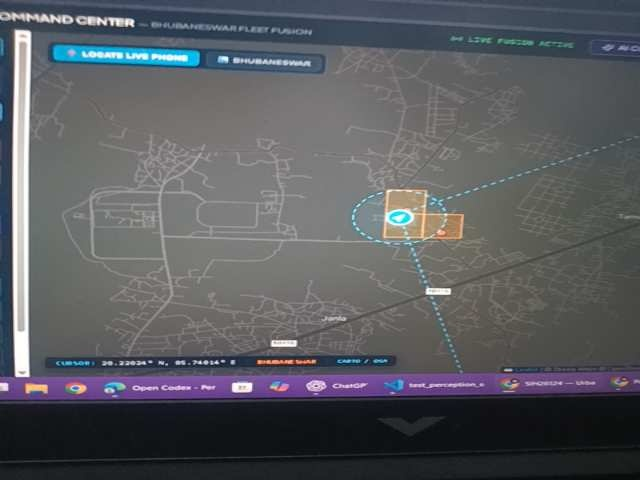pothole: (105, 404, 316, 480), (535, 405, 640, 480)
